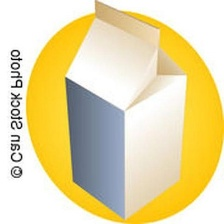carton: (58, 0, 195, 220)
